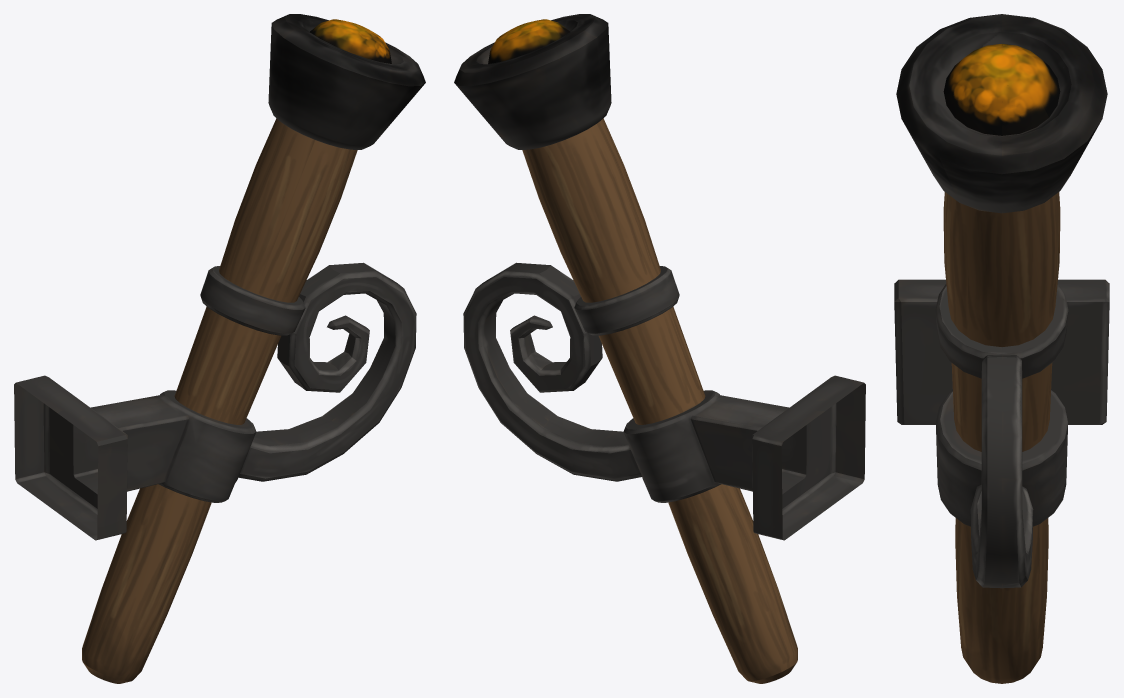
File: torch_wall.fbx
3 renders of one model, left to right at view 1: azimuth 30°, elevation 25°; view 2: azimuth 150°, elevation 25°; view 3: azimuth 270°, elevation 25°, orthographic. The views are drawn at different scales.
Parts seen in each view (by area): view 1: torch; view 2: torch; view 3: torch.
Part boxes in pixels (<box>): torch: <box>14,14,425,683</box>; torch: <box>454,14,865,683</box>; torch: <box>894,14,1109,683</box>.
Size of the model in its own units: 2914 by 4722 by 1189.
1 material, 1 textured.
